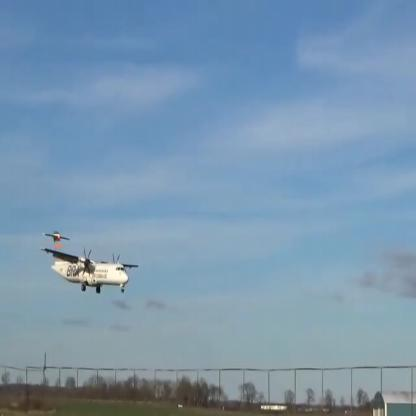CIV_Plane: (36, 228, 143, 298)
